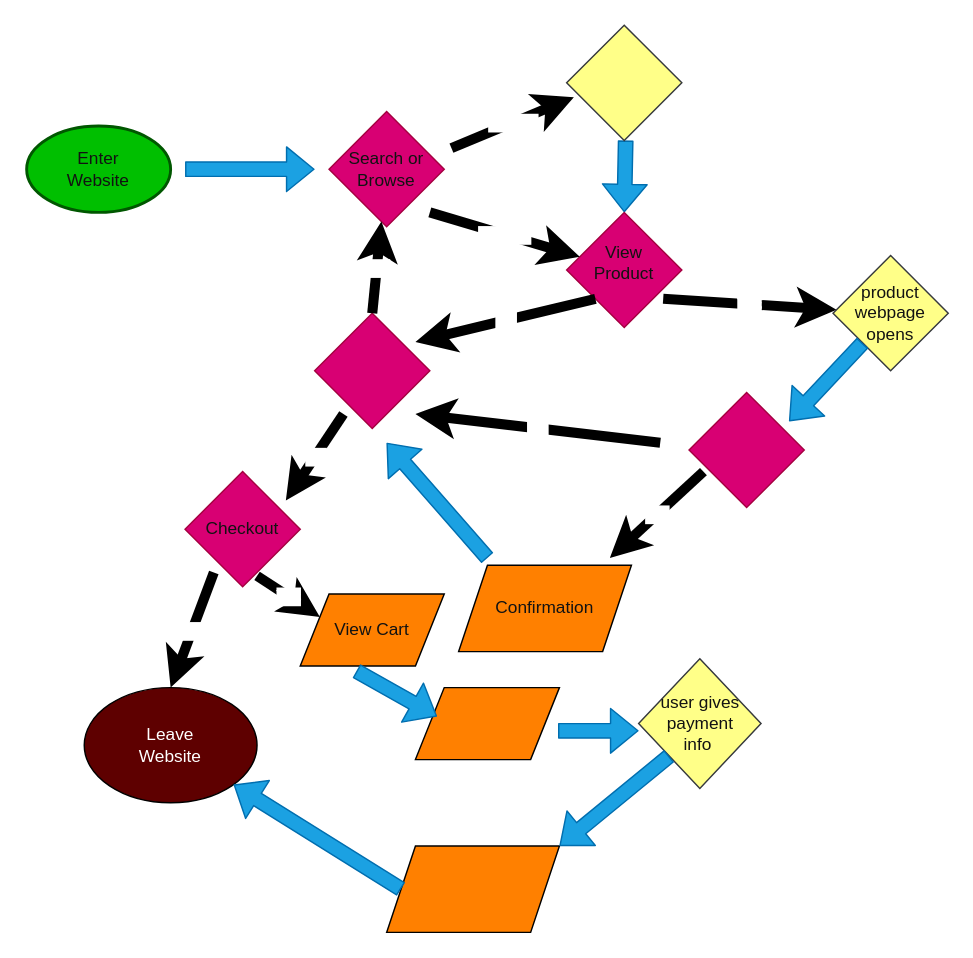
The diagram is 973 pixels wide and 958 high, and some of its shapes have lost their labels. The shapes that lost their labels are listed below. From the top down, each one's box as (x1, y1, x2, y2) in pixels, then its label:
(565, 24, 682, 140): user provides input
(313, 312, 430, 428): Continue Shopping
(688, 391, 804, 508): Add item to cart
(414, 686, 559, 760): View Payment
(385, 845, 559, 932): Confirmation screen + email
